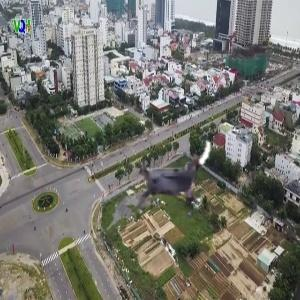drone: (123, 129, 223, 229)
